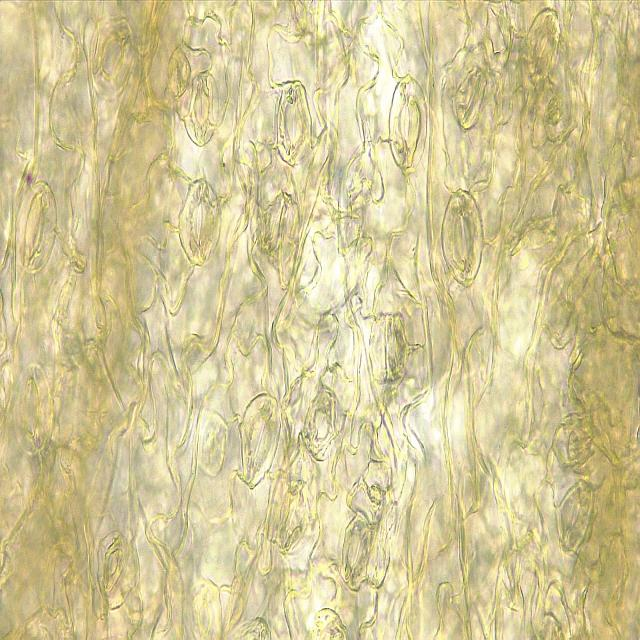Stomata: (232, 391, 284, 490), (177, 174, 223, 270), (15, 178, 60, 274), (441, 188, 484, 287), (89, 12, 136, 101), (12, 362, 55, 458), (388, 73, 428, 174), (184, 69, 221, 148)
